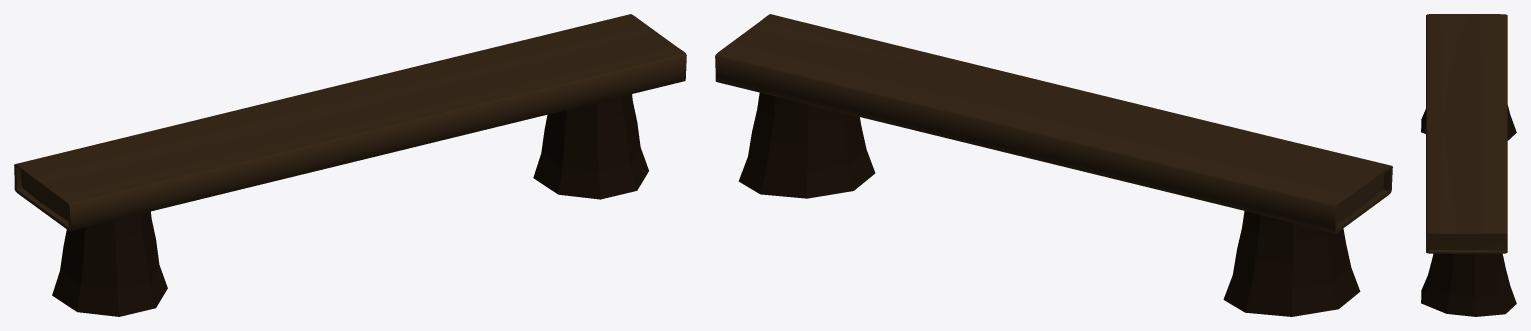
The model's file is Bench02_FBX.fbx.
The picture shows the model from 3 angles, left to right: view 1: azimuth 30°, elevation 25°; view 2: azimuth 150°, elevation 25°; view 3: azimuth 270°, elevation 25°; orthographic projection. The views are drawn at different scales.
Visible parts, largest first — view 1: LOG 043, LOG 044, LOG 042; view 2: LOG 043, LOG 044, LOG 042; view 3: LOG 043, LOG 042, LOG 044.
Part boxes in pixels (x1=…): LOG 043: x1=14, y1=14, x2=686, y2=230; LOG 044: x1=52, y1=211, x2=167, y2=316; LOG 042: x1=533, y1=94, x2=648, y2=199; LOG 043: x1=715, y1=14, x2=1392, y2=232; LOG 044: x1=1223, y1=211, x2=1360, y2=316; LOG 042: x1=738, y1=92, x2=875, y2=198; LOG 043: x1=1426, y1=14, x2=1507, y2=253; LOG 042: x1=1421, y1=253, x2=1516, y2=316; LOG 044: x1=1421, y1=105, x2=1516, y2=140.
Bounding box in the file's own units: 198 × 37.4 × 36.6.
